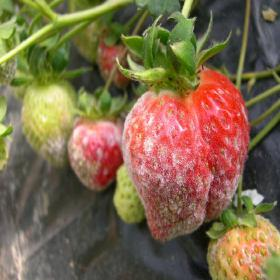Powdery Mildew Fruit: (117, 61, 251, 244), (22, 77, 79, 167), (207, 210, 279, 279), (66, 116, 124, 192), (96, 21, 148, 89), (0, 26, 18, 86)
